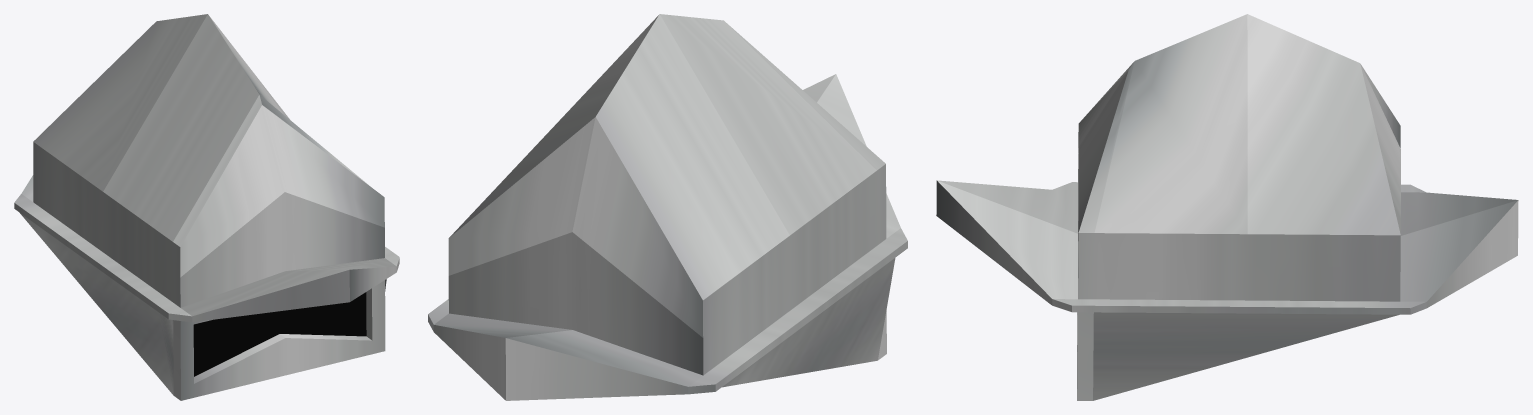
Rendered from conquerer.glb.
3 renders of one model, left to right at view 1: azimuth 30°, elevation 25°; view 2: azimuth 150°, elevation 25°; view 3: azimuth 270°, elevation 25°, orthographic. The views are drawn at different scales.
Visible parts, largest first — view 1: Conquerer; view 2: Conquerer; view 3: Conquerer.
Boxes of the visible parts, left/top/right/bottom form: Conquerer: left=14, top=14, right=399, bottom=400; Conquerer: left=428, top=14, right=907, bottom=400; Conquerer: left=936, top=14, right=1518, bottom=400.
Bounding box in the file's own units: 0.4464 × 0.5624 × 0.889.
2 materials, 1 textured.
